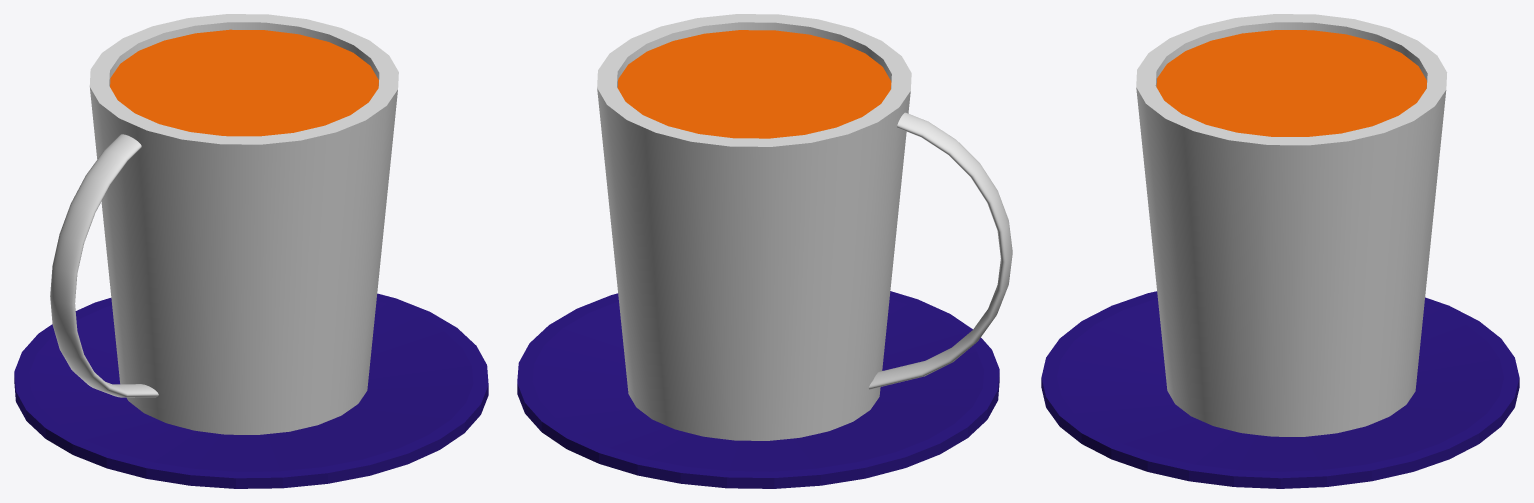
The model's file is Jus jeruk.fbx.
3 views of the same model, side by side, from view 1: azimuth 30°, elevation 25°; view 2: azimuth 150°, elevation 25°; view 3: azimuth 270°, elevation 25° (orthographic).
Visible parts, largest first — view 1: Jus Jambu, Cylinder, Cylinder.001; view 2: Jus Jambu, Cylinder, Cylinder.001; view 3: Jus Jambu, Cylinder, Cylinder.001.
Boxes of the visible parts, left/top/right/bottom form: Jus Jambu: left=50, top=14, right=398, bottom=434; Cylinder: left=14, top=293, right=488, bottom=488; Cylinder.001: left=110, top=29, right=378, bottom=136; Jus Jambu: left=597, top=14, right=1012, bottom=440; Cylinder: left=517, top=291, right=999, bottom=488; Cylinder.001: left=617, top=30, right=891, bottom=138; Jus Jambu: left=1136, top=14, right=1447, bottom=436; Cylinder: left=1041, top=291, right=1519, bottom=488; Cylinder.001: left=1156, top=30, right=1426, bottom=136.
Bounding box in the file's own units: 5819 × 4049 × 5589.
